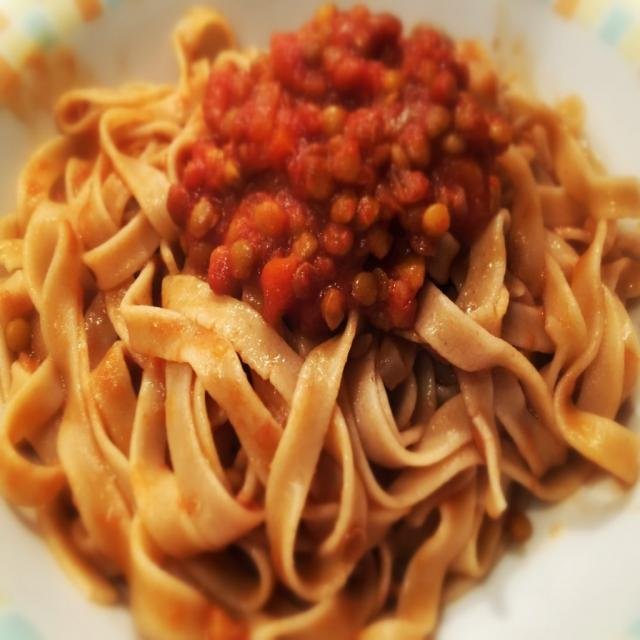Pasta al ragu: (20, 9, 627, 588)
